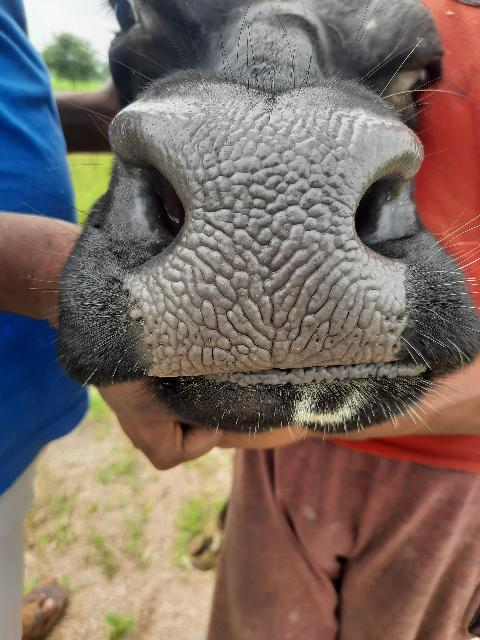Muzzle: (143, 110, 388, 370)
